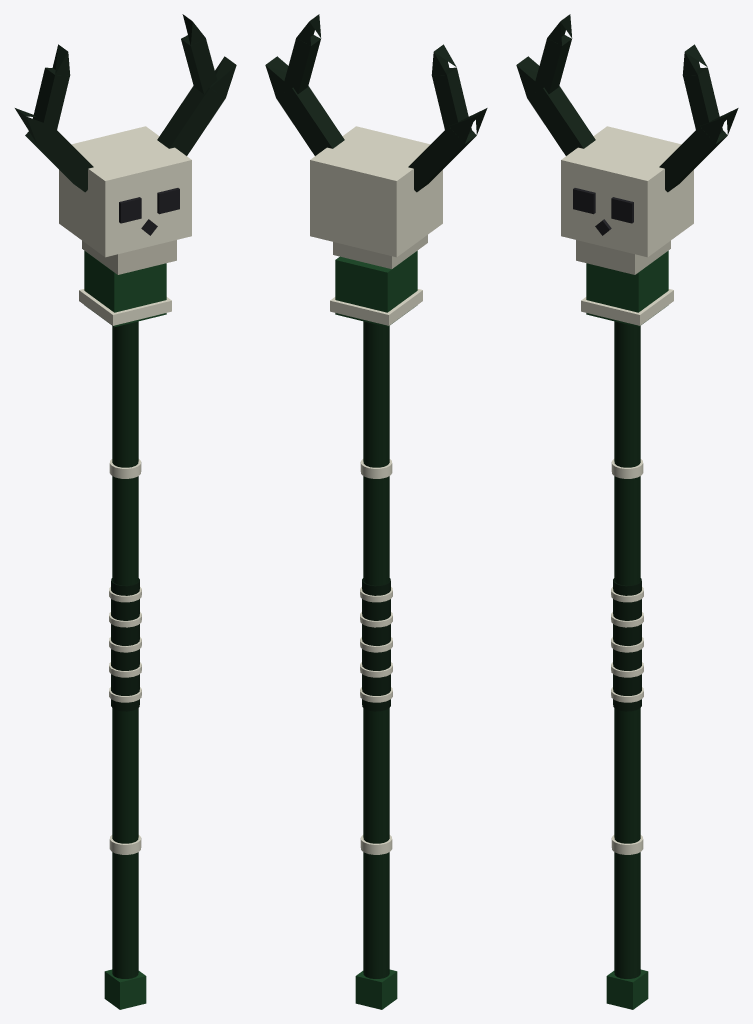
3 views of the same model, side by side, from view 1: azimuth 30°, elevation 25°; view 2: azimuth 150°, elevation 25°; view 3: azimuth 330°, elevation 25° (orthographic).
Parts seen in each view (by area): view 1: bonecaller-staff; view 2: bonecaller-staff; view 3: bonecaller-staff.
Boxes of the visible parts, bbox=[...] form: bonecaller-staff: bbox=[15, 14, 236, 1009]; bonecaller-staff: bbox=[265, 14, 487, 1009]; bonecaller-staff: bbox=[516, 14, 738, 1009].
Size of the model in its own units: 0.3446 by 1.51 by 0.1364.
